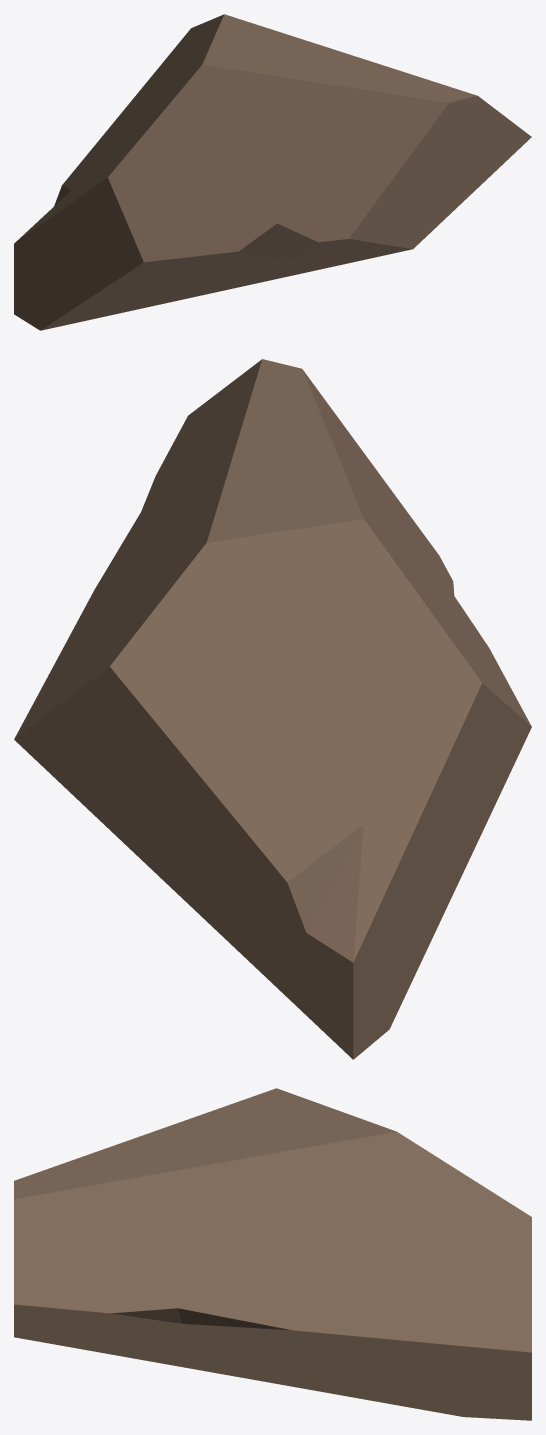
Rendered from JaggedRock1.fbx.
The picture shows the model from 3 angles, top to bottom: view 1: azimuth 30°, elevation 25°; view 2: azimuth 150°, elevation 25°; view 3: azimuth 270°, elevation 25°; orthographic projection. The views are drawn at different scales.
Parts seen in each view (by area): view 1: JaggedRock1; view 2: JaggedRock1; view 3: JaggedRock1.
Part boxes in pixels (x1=…): JaggedRock1: x1=14, y1=14, x2=531, y2=330; JaggedRock1: x1=14, y1=359, x2=531, y2=1059; JaggedRock1: x1=14, y1=1088, x2=531, y2=1420.
Size of the model in its own units: 79.99 by 71.73 by 86.36.
